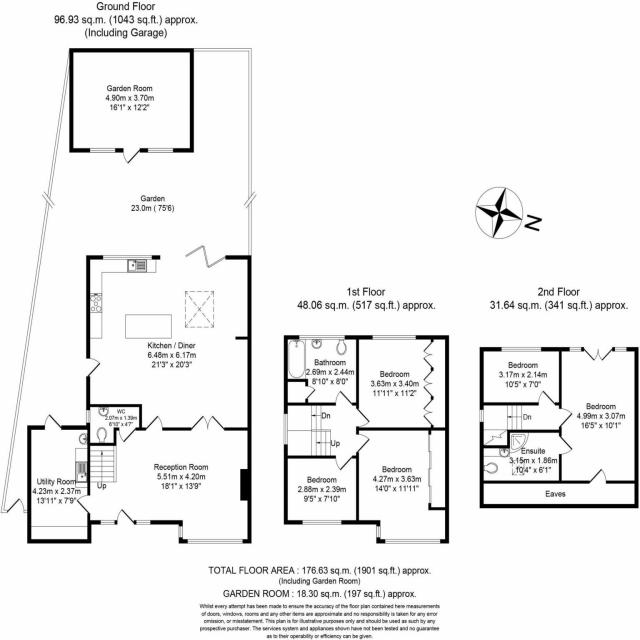DOOR: (190, 414, 225, 431), (356, 407, 371, 428), (44, 413, 62, 430), (537, 390, 556, 406), (356, 434, 371, 454), (559, 408, 574, 428), (119, 427, 137, 443), (335, 390, 353, 406), (335, 455, 353, 471), (144, 415, 163, 430), (86, 358, 101, 377), (559, 435, 573, 455), (589, 468, 607, 483), (77, 494, 90, 514)
ROOM: (86, 255, 252, 431), (74, 413, 252, 544), (560, 346, 640, 483), (356, 427, 449, 544), (356, 334, 431, 430), (284, 335, 359, 406), (284, 455, 359, 525), (479, 347, 562, 406)
WINDOW: (186, 539, 243, 544), (384, 538, 441, 543), (102, 255, 153, 260), (500, 346, 542, 352), (298, 335, 345, 340), (371, 335, 417, 340), (302, 520, 342, 525), (135, 520, 151, 526), (98, 520, 116, 525), (568, 347, 583, 352), (86, 409, 91, 423), (376, 525, 381, 539), (613, 347, 627, 352), (479, 409, 484, 422), (179, 525, 183, 539)
